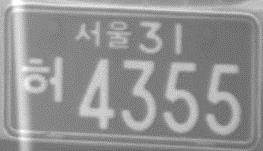1: (171, 21, 187, 57)
3: (115, 56, 159, 135), (206, 60, 244, 138), (136, 19, 162, 54)
4: (73, 55, 116, 133)
5: (161, 56, 202, 135)
서울_O: (71, 19, 133, 50)
허: (20, 54, 66, 106)
